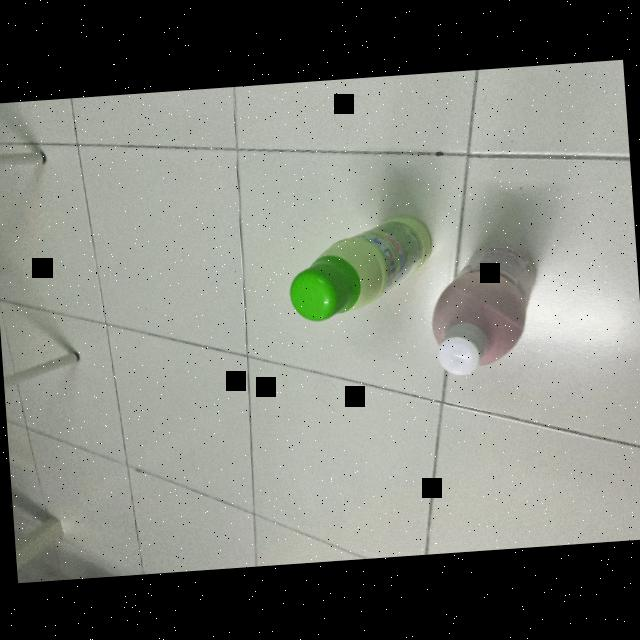chemical_plastic_bottle: (278, 208, 440, 324), (426, 236, 542, 382)
